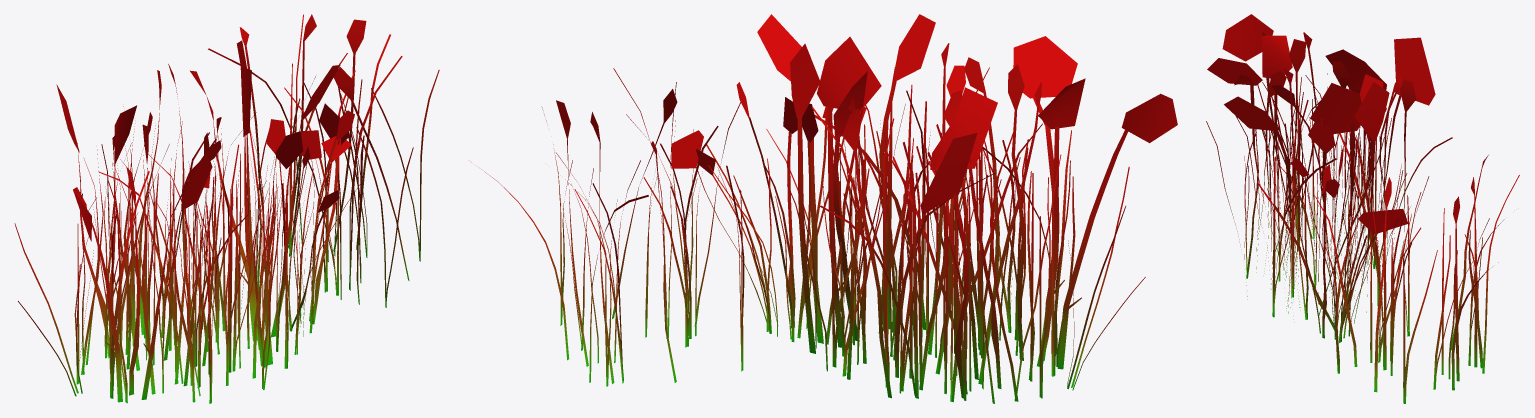
Rendered from Softstem Bulrush_LOD2_Var8_uehjcafia.fbx.
3 renders of one model, left to right at view 1: azimuth 30°, elevation 25°; view 2: azimuth 150°, elevation 25°; view 3: azimuth 270°, elevation 25°, orthographic. The views are drawn at different scales.
Visible parts, largest first — view 1: _0add_Var8_LOD2; view 2: _0add_Var8_LOD2; view 3: _0add_Var8_LOD2.
Part boxes in pixels (left/top/right/bottom): _0add_Var8_LOD2: left=14, top=14, right=439, bottom=403; _0add_Var8_LOD2: left=470, top=14, right=1177, bottom=403; _0add_Var8_LOD2: left=1206, top=14, right=1519, bottom=403.
Bounding box in the file's own units: 377 × 213 × 249.
